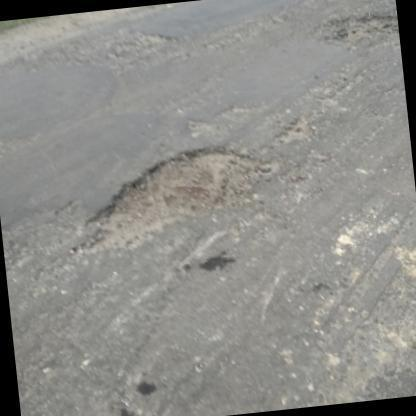pothole: (76, 145, 268, 254), (324, 11, 400, 45), (101, 30, 170, 65)
